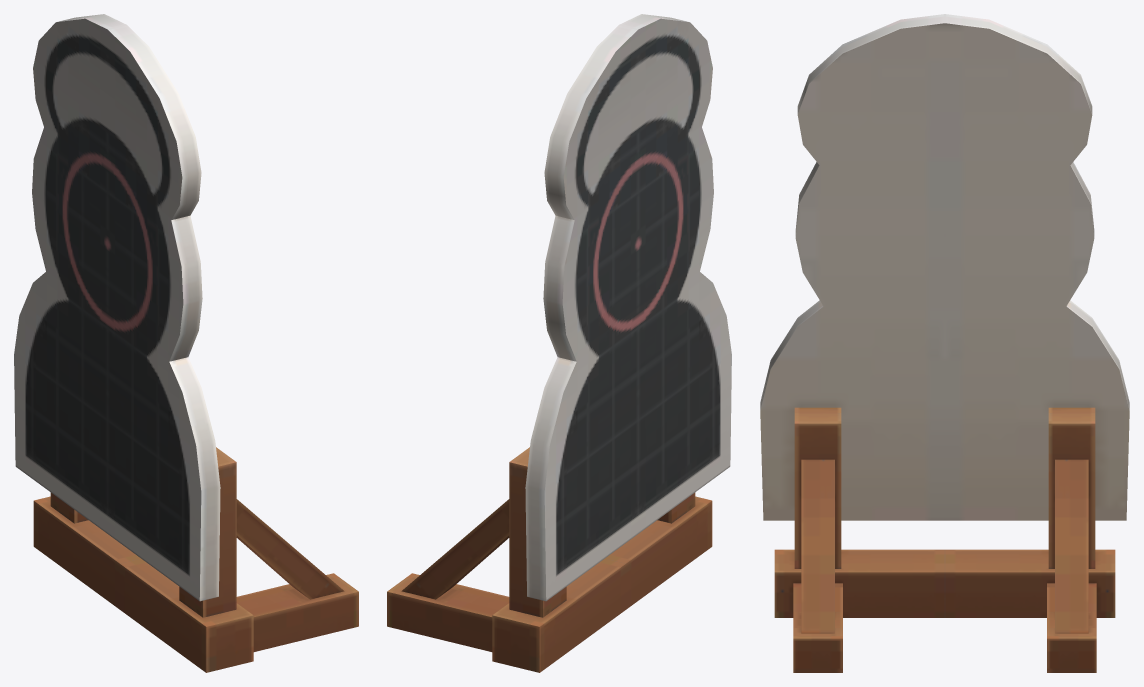
Rendered from my_hyakkiyako_01_target_01.glb.
The picture shows the model from 3 angles, left to right: view 1: azimuth 30°, elevation 25°; view 2: azimuth 150°, elevation 25°; view 3: azimuth 270°, elevation 25°; orthographic projection.
Visible parts, largest first — view 1: my_hyakkiyako_01_target_01; view 2: my_hyakkiyako_01_target_01; view 3: my_hyakkiyako_01_target_01.
Part boxes in pixels (bbox=[...]): my_hyakkiyako_01_target_01: bbox=[14, 14, 358, 672]; my_hyakkiyako_01_target_01: bbox=[387, 14, 731, 672]; my_hyakkiyako_01_target_01: bbox=[760, 14, 1129, 672].
Size of the model in its own units: 0.00294 by 0.00939 by 0.00547.
1 material, 1 textured.
